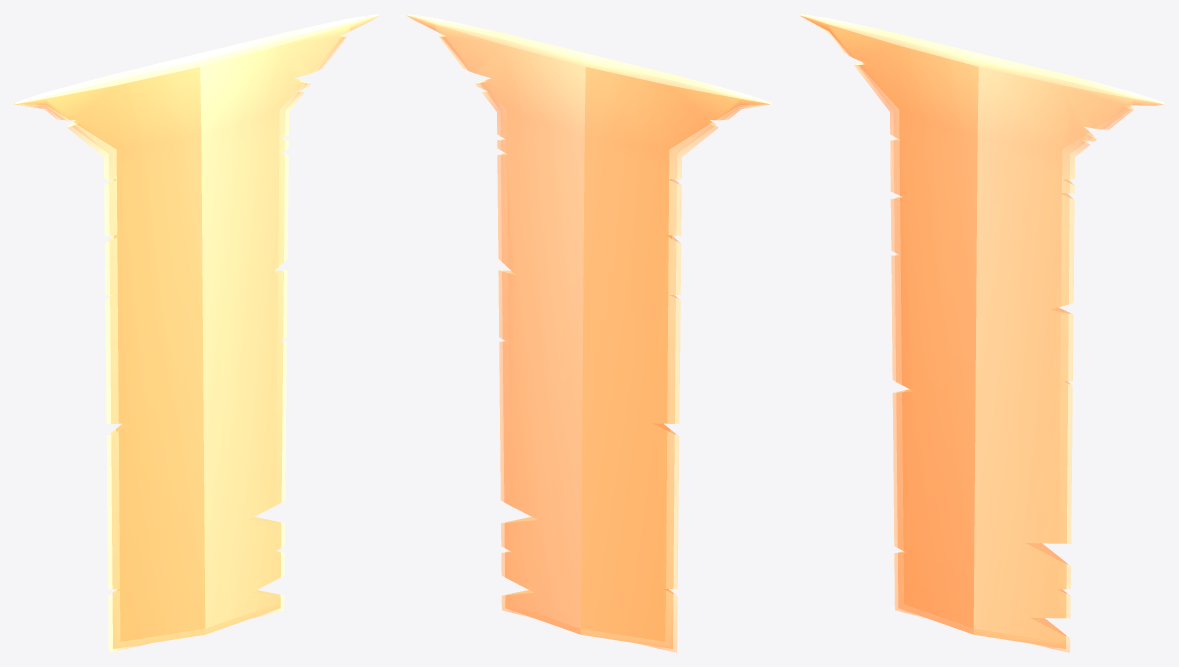
File: wood_blade_scratched_072.glb
3 views of the same model, side by side, from view 1: azimuth 30°, elevation 25°; view 2: azimuth 150°, elevation 25°; view 3: azimuth 330°, elevation 25° (orthographic).
Parts seen in each view (by area): view 1: wood_blade_scratched.072; view 2: wood_blade_scratched.072; view 3: wood_blade_scratched.072.
Part boxes in pixels (x1,y1,x2,y2): wood_blade_scratched.072: (14,14,378,652); wood_blade_scratched.072: (407,14,771,652); wood_blade_scratched.072: (800,14,1164,652).
Bounding box in the file's own units: 7.54 × 11.44 × 0.6326.
1 material, 1 textured.
